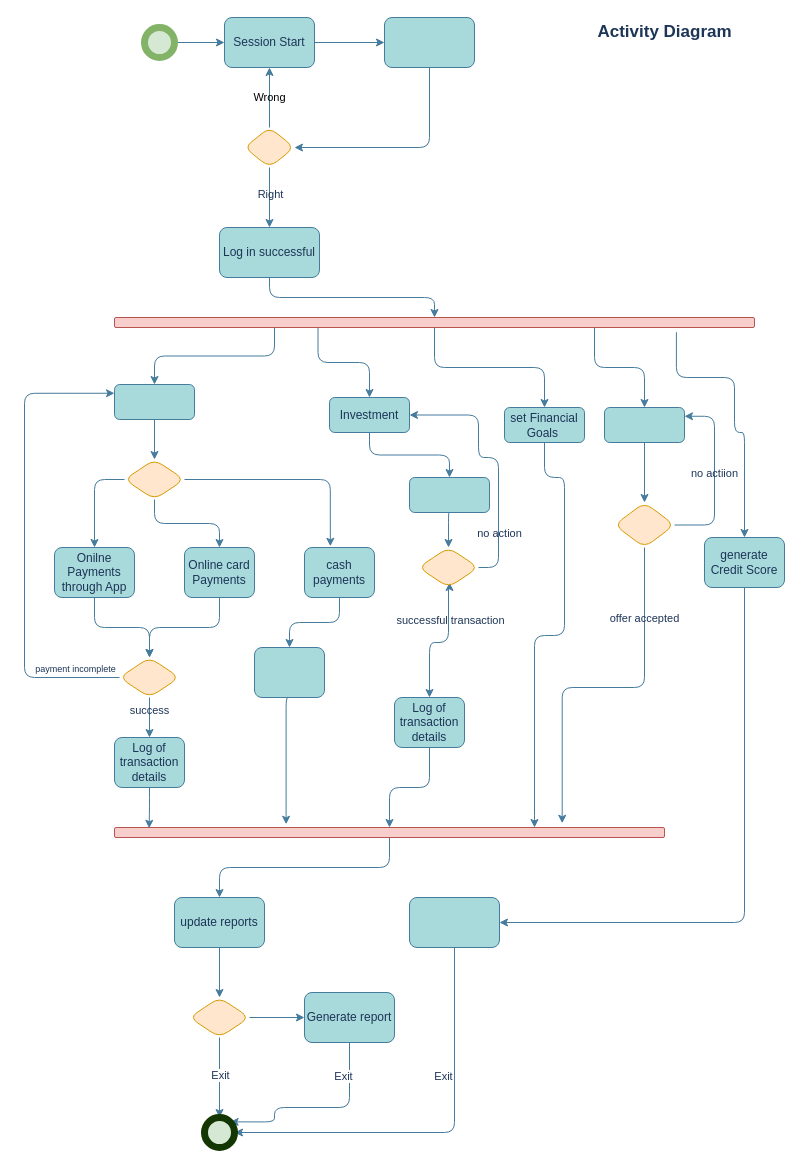
This 802x1168 diagram has some shape labels left out. Here are the shapes that lost their labels. From the top down, the centre of each, then its label:
the point at 429,42: Log in Credentials
the point at 154,402: Payments
the point at 644,424: Offers
the point at 449,494: Stock/Bank Server
the point at 289,672: Manual entry
the point at 454,922: Credit Score
